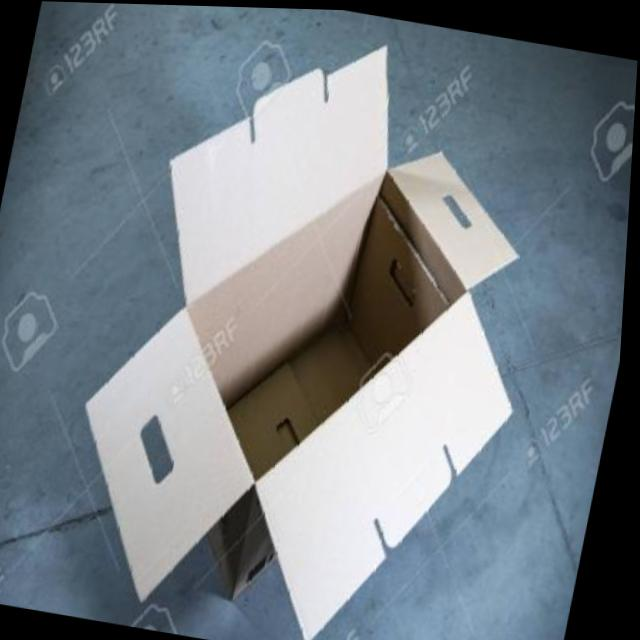box: (39, 2, 606, 640)
